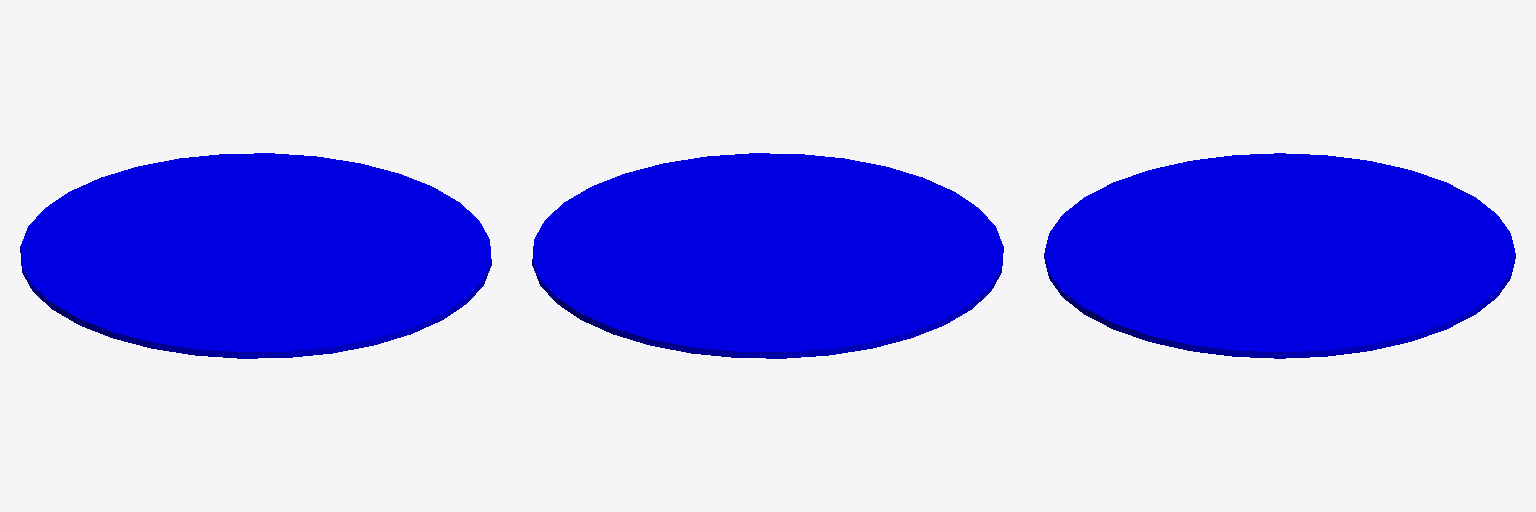
URDF robot description (two_link_robot):
<?xml version="1.0"?>
<robot name="two_link_robot">

  <link name="base_link">
    <visual>
      <origin xyz="0 0 0.3" rpy="0 0 0"/>
      <geometry>
        <cylinder length="0.006" radius="0.2"/>
      </geometry>
      <material name="blue">
        <color rgba="0 0 1 1"/>
      </material>
    </visual>
    <collision>
      <origin xyz="0 0 0.3" rpy="0 0 0"/>
      <geometry>
        <cylinder length="0.6" radius="0.2"/>
      </geometry>
    </collision>
    <inertial>
      <origin xyz="0 0 0.3" rpy="0 0 0"/>
      <mass value="1.0"/>
      <inertia ixx="0.01" ixy="0" ixz="0" iyy="0.01" iyz="0" izz="0.02"/>
    </inertial>
  </link>

  <link name="second_link">
    <visual>
      <origin xyz="0 0.2 0.9" rpy="0 0 0"/>
      <geometry>
        <mesh filename="package://articubot_one/meshes/base_link.stl" scale="1 1 1"/>
      </geometry>
    </visual>
    <collision>
      <origin xyz="0 0.2 0.9" rpy="0 0 0"/>
      <geometry>
        <mesh filename="package://articubot_one/meshes/base_link.stl" scale="1 1 1"/>
      </geometry>
    </collision>
    <inertial>
      <origin xyz="0 0.2 0.9" rpy="0 0 0"/>
      <mass value="0.5"/>
      <inertia ixx="0.005" ixy="0" ixz="0" iyy="0.005" iyz="0" izz="0.01"/>
    </inertial>
  </link>

  <joint name="joint1" type="revolute">
    <parent link="base_link"/>
    <child link="second_link"/>
    <origin xyz="0 0 0.6" rpy="0 0 0"/>
    <axis xyz="0 0 1"/>
    <limit lower="-1.57" upper="1.57" effort="1000" velocity="1.0"/>
  </joint>

</robot>

--- Facts derived from the render (not from the file) ---
Views: 3 orthographic renders of the robot side by side, from view 1: azimuth 30°, elevation 25°; view 2: azimuth 150°, elevation 25°; view 3: azimuth 270°, elevation 25°.
Robot: two_link_robot — 2 links, 1 joints (1 revolute); root link base_link; default pose: all joints at 0.
Links seen in each view (by area): view 1: base_link; view 2: base_link; view 3: base_link.
Boxes of the visible links, x1,y1,x2,y2 form: base_link: (20,153,491,358); base_link: (532,153,1003,358); base_link: (1044,153,1515,358).
Size in the robot's own frame: 0.4 by 0.4 by 0.006 metres.
Meshes: 1 distinct files referenced, 0 mesh visuals loaded (none loaded); not drawn: 1 (reference not matched to a file when rendering).